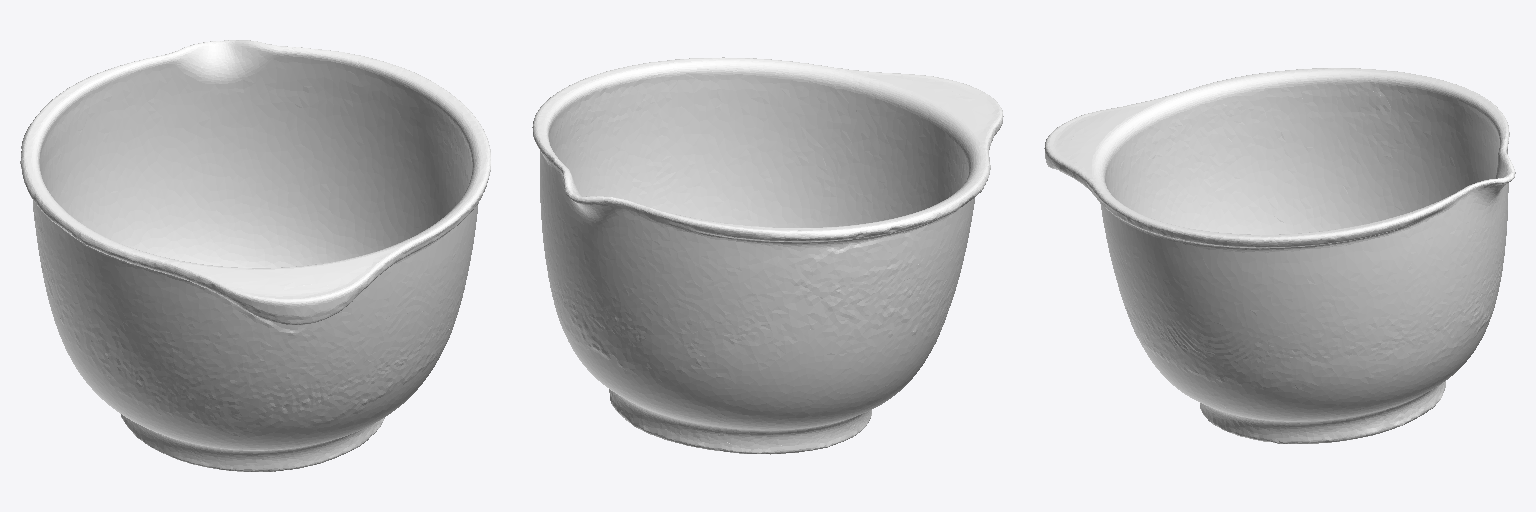
robot.urdf — model.urdf:
<robot name="model.urdf">
    <link name="baseLink">
        <contact>
            <lateral_friction value="0.5"/>
            <rolling_friction value="1"/>
            <spinning_friction value="1"/>
            <contact_cfm value="0.0"/>
            <contact_erp value="1.0"/>
        </contact>
        <inertial>
            <origin rpy="-0.08 3.1 0" xyz="0. 0.0 0.02"/>
            <mass value="1.2"/>
            <inertia ixx="1e-3" ixy="0" ixz="0" iyy="1e-3" iyz="0" izz="1e-3"/>
        </inertial>
        <visual>
            <origin xyz="0.0 0.0 0.0" rpy="0 0 -1.7" />
            <geometry>
                <mesh filename="nontextured.stl" scale="1 1 1"/>
            </geometry>
            <material name="white">
                <color rgba="1 1 1 1"/>
            </material>
        </visual>
        <collision>
            <origin xyz="0.0 0.0 0.0" rpy="0 0 -1.7" />
            <geometry>
                <mesh filename="nontextured.stl" scale="1 1 1"/>
            </geometry>
        </collision>
    </link>
</robot>

--- Facts derived from the render (not from the file) ---
The picture shows the robot from 3 angles, left to right: view 1: azimuth 30°, elevation 25°; view 2: azimuth 150°, elevation 25°; view 3: azimuth 270°, elevation 25°; orthographic projection.
Model model.urdf with 1 links and 0 joints (none), rooted at baseLink, posed all joints at 0.
Links seen in each view (by area): view 1: baseLink; view 2: baseLink; view 3: baseLink.
Boxes of the visible links, left/top/right/bottom form: baseLink: left=20, top=40, right=490, bottom=471; baseLink: left=532, top=57, right=1003, bottom=454; baseLink: left=1044, top=68, right=1515, bottom=443.
Bounding box of the posed robot: 0.2019 × 0.2193 × 0.1366 m (x, y, z).
1 mesh visuals loaded from 1 distinct referenced files (1 binary STL).